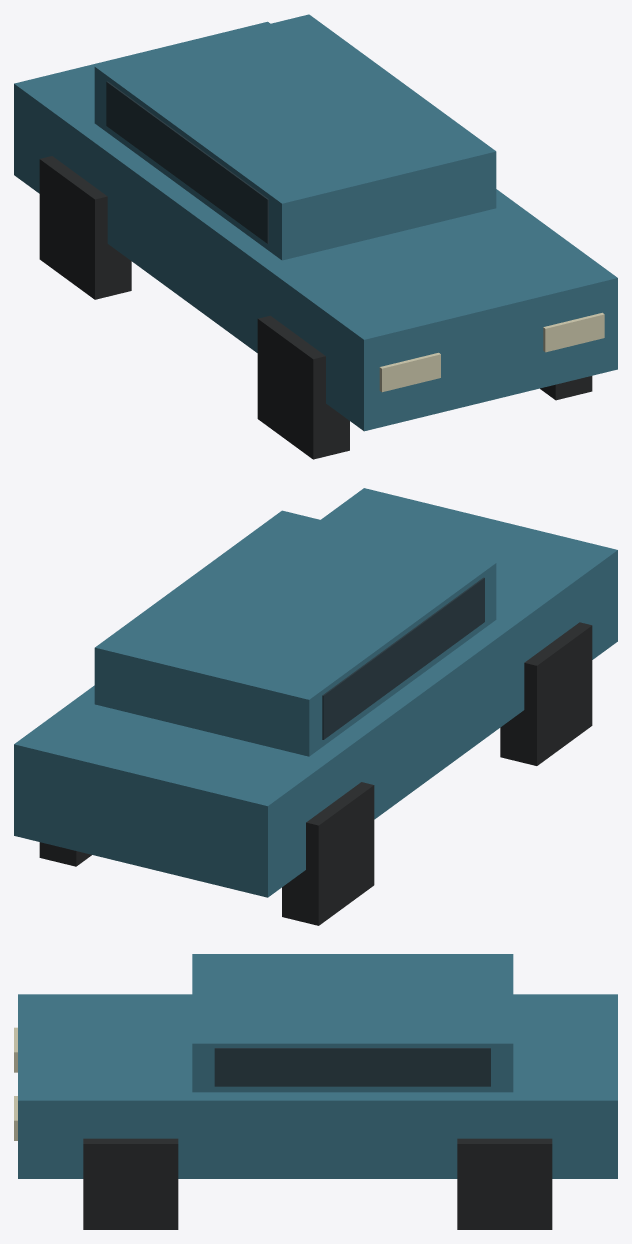
Rendered from car-blue.glb.
3 renders of one model, top to bottom at view 1: azimuth 30°, elevation 25°; view 2: azimuth 150°, elevation 25°; view 3: azimuth 270°, elevation 25°, orthographic. The views are drawn at different scales.
Size of the model in its own units: 1.98 by 1.37 by 4.33.
